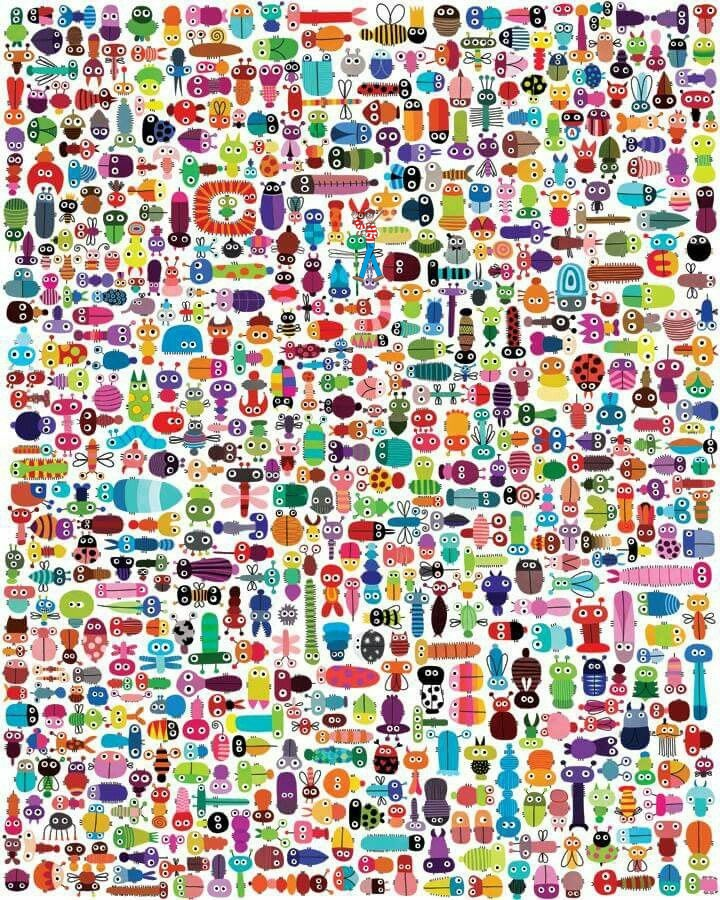waldo: (351, 208, 384, 282)
